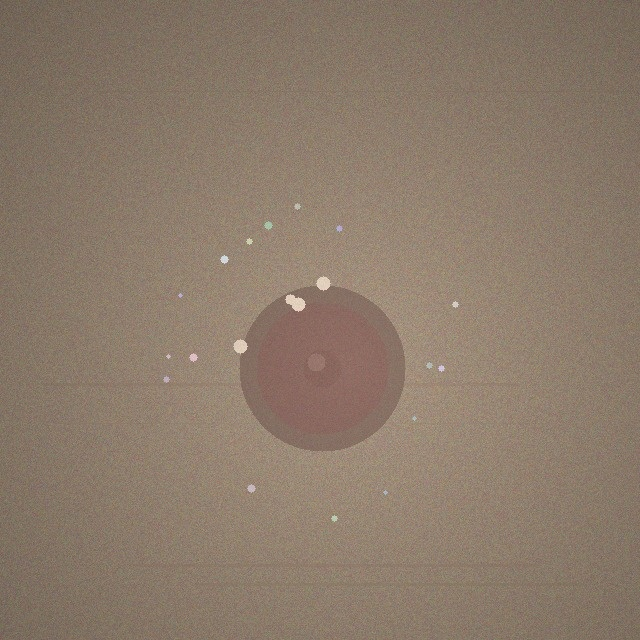overburn: (239, 285, 405, 451)
